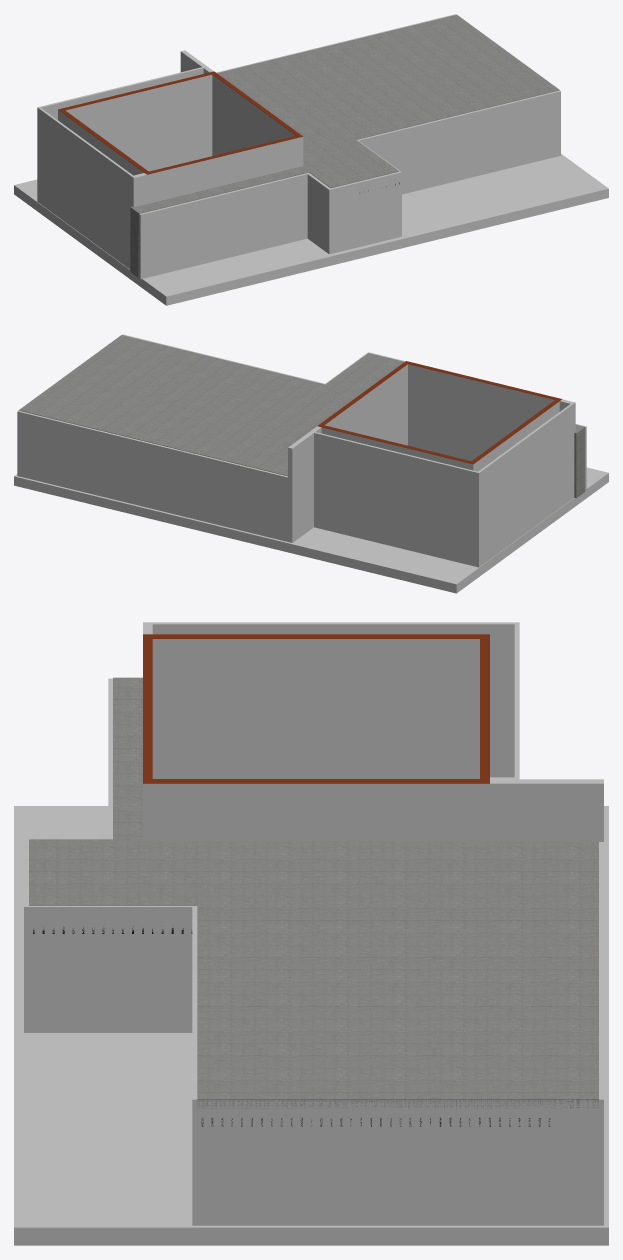
The model's file is SilencePlaza.fbx.
The picture shows the model from 3 angles, top to bottom: view 1: azimuth 30°, elevation 25°; view 2: azimuth 150°, elevation 25°; view 3: azimuth 270°, elevation 25°; orthographic projection. The views are drawn at different scales.
Parts seen in each view (by area): view 1: BrickWall, Ceiling, Floor, Molding; view 2: BrickWall, Ceiling, Floor, Molding; view 3: BrickWall, Ceiling, Floor, Molding, Concrete.
Boxes of the visible parts, box(x1,y1,x2,y2) form: BrickWall: box(37, 14, 560, 279); Ceiling: box(130, 14, 559, 277); Floor: box(14, 154, 608, 305); Molding: box(58, 71, 302, 174); BrickWall: box(17, 334, 586, 567); Ceiling: box(18, 335, 585, 498); Floor: box(14, 467, 608, 593); Molding: box(317, 361, 561, 464); BrickWall: box(24, 622, 603, 1225); Ceiling: box(29, 677, 598, 1108); Floor: box(14, 806, 608, 1245); Molding: box(143, 634, 489, 783); Concrete: box(197, 777, 597, 1171).
Size of the model in its own units: 10100 by 2255 by 6000.
